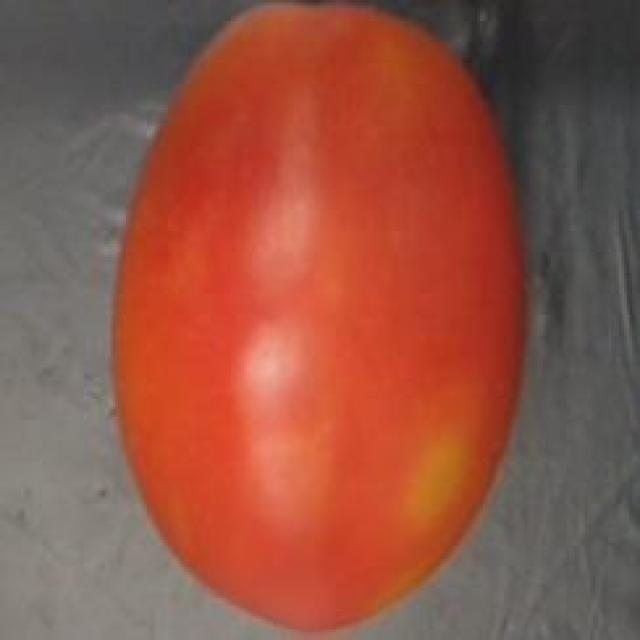ripe tomato: (105, 0, 538, 640)
